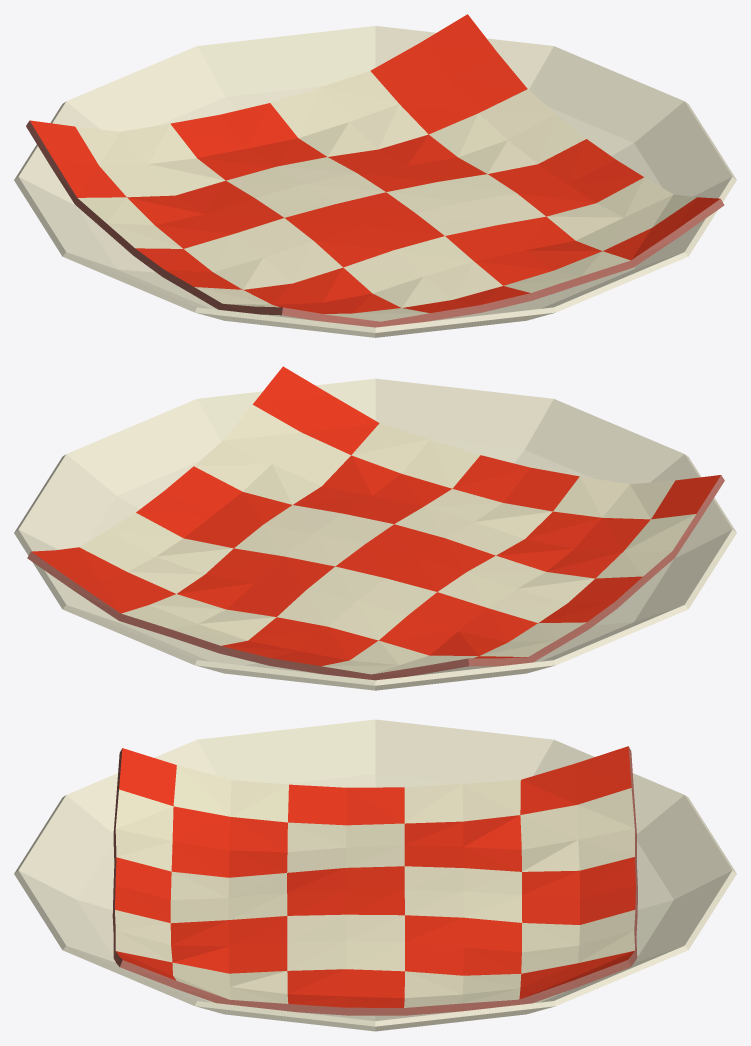
Rendered from 盤子_塗色完成2.fbx.
The picture shows the model from 3 angles, top to bottom: view 1: azimuth 30°, elevation 25°; view 2: azimuth 150°, elevation 25°; view 3: azimuth 270°, elevation 25°; orthographic projection.
Visible parts, largest first — view 1: Plane.003; view 2: Plane.003; view 3: Plane.003.
Part boxes in pixels (bbox=[...]): Plane.003: bbox=[14, 14, 736, 337]; Plane.003: bbox=[14, 366, 736, 690]; Plane.003: bbox=[14, 719, 736, 1031].
Bounding box in the file's own units: 181 × 25.26 × 181.
